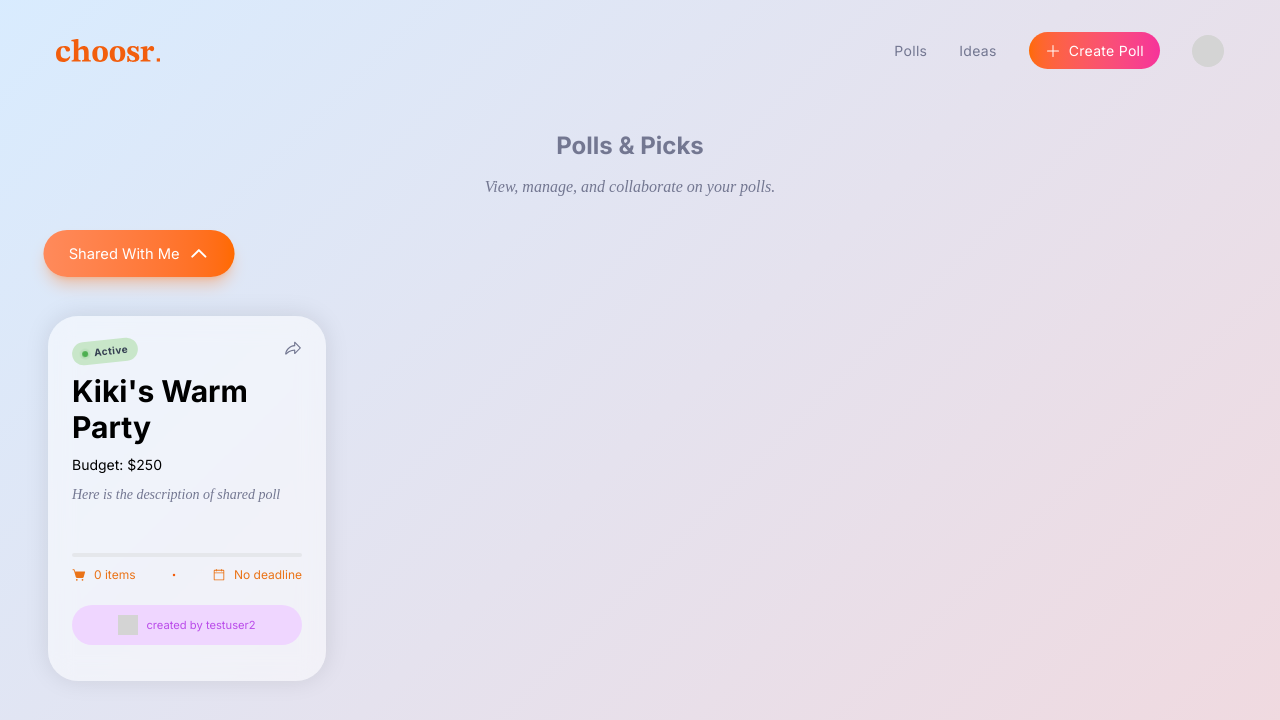
Test case: Shared Poll › renders shared poll details form correctly
Click the heading "Kiki's Warm Party": (160, 409) [72, 373, 248, 445]
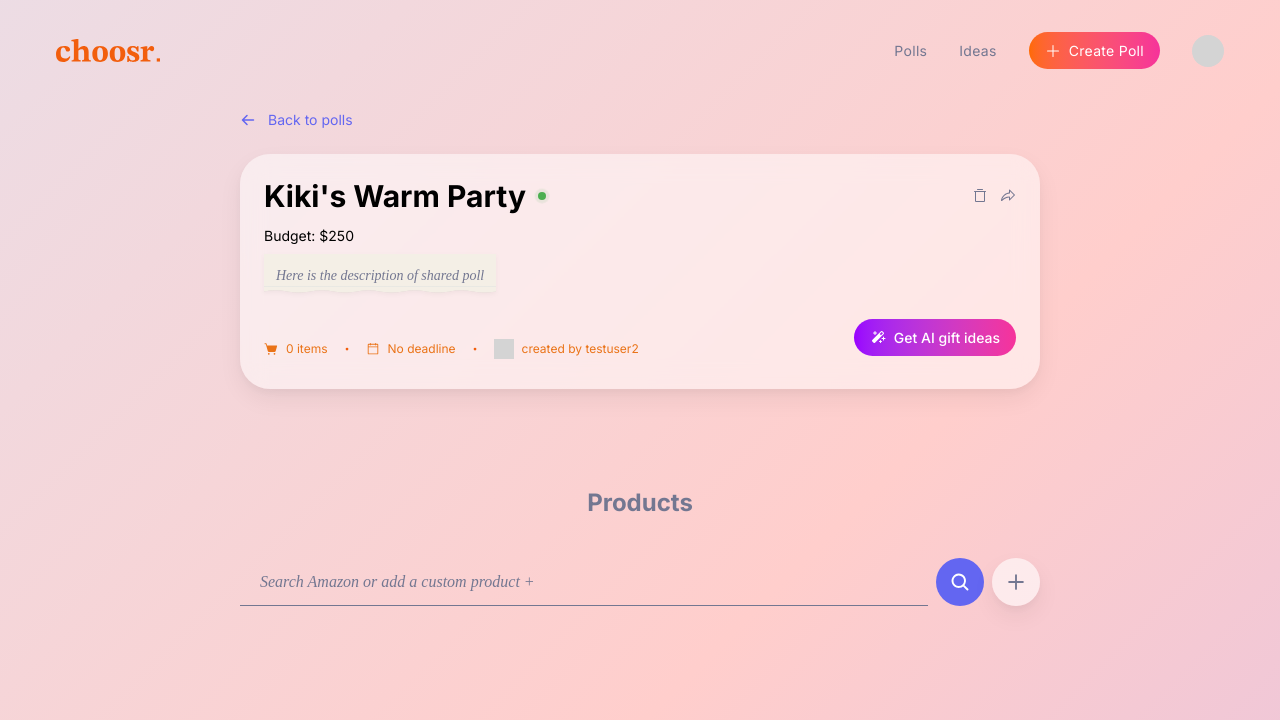
Expected: the heading "Kiki's Warm Party" is shown, [264, 178, 526, 214]
Now the button "Get AI gift ideas" is shown, box [854, 318, 1016, 356]
